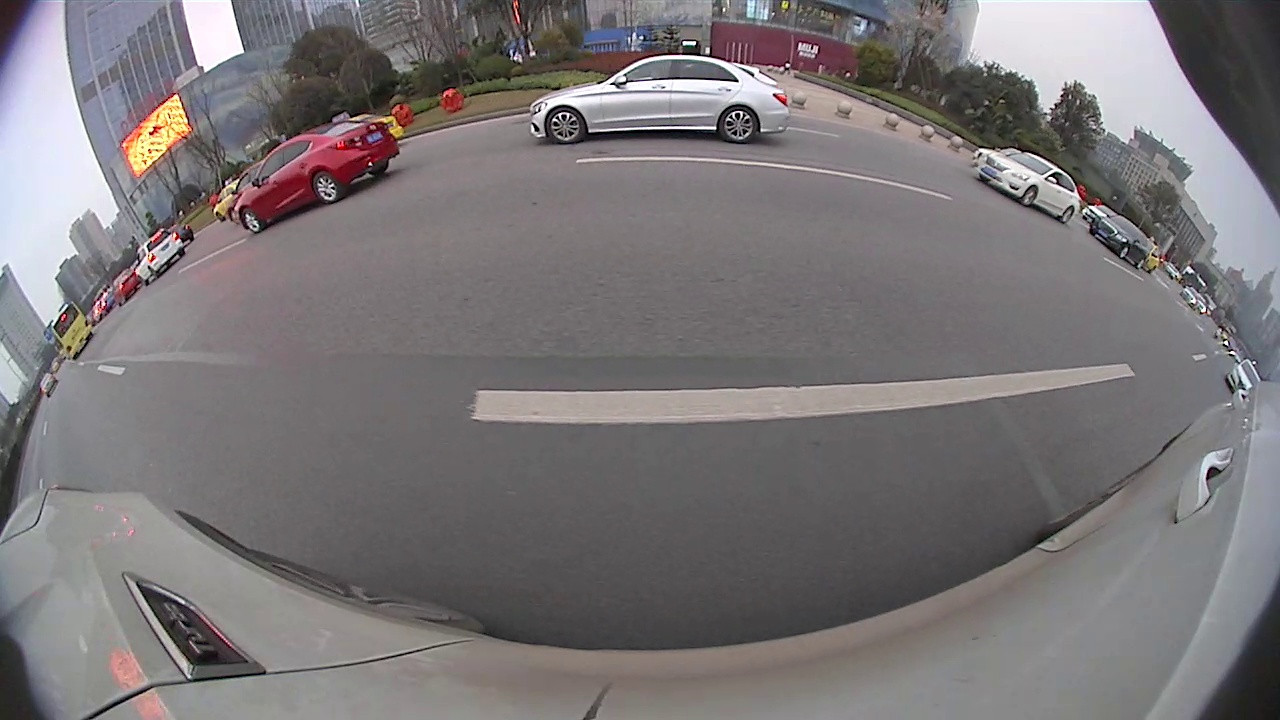bus: (49, 299, 97, 360)
car: (526, 54, 790, 146), (237, 118, 401, 238), (975, 148, 1076, 223), (1090, 209, 1154, 268), (135, 226, 186, 286), (327, 110, 406, 140), (212, 177, 246, 225)
front: (544, 104, 590, 144), (240, 204, 267, 235), (1017, 183, 1040, 208)
rear: (716, 102, 760, 144), (311, 172, 345, 203), (368, 159, 390, 178), (1057, 206, 1074, 225)
